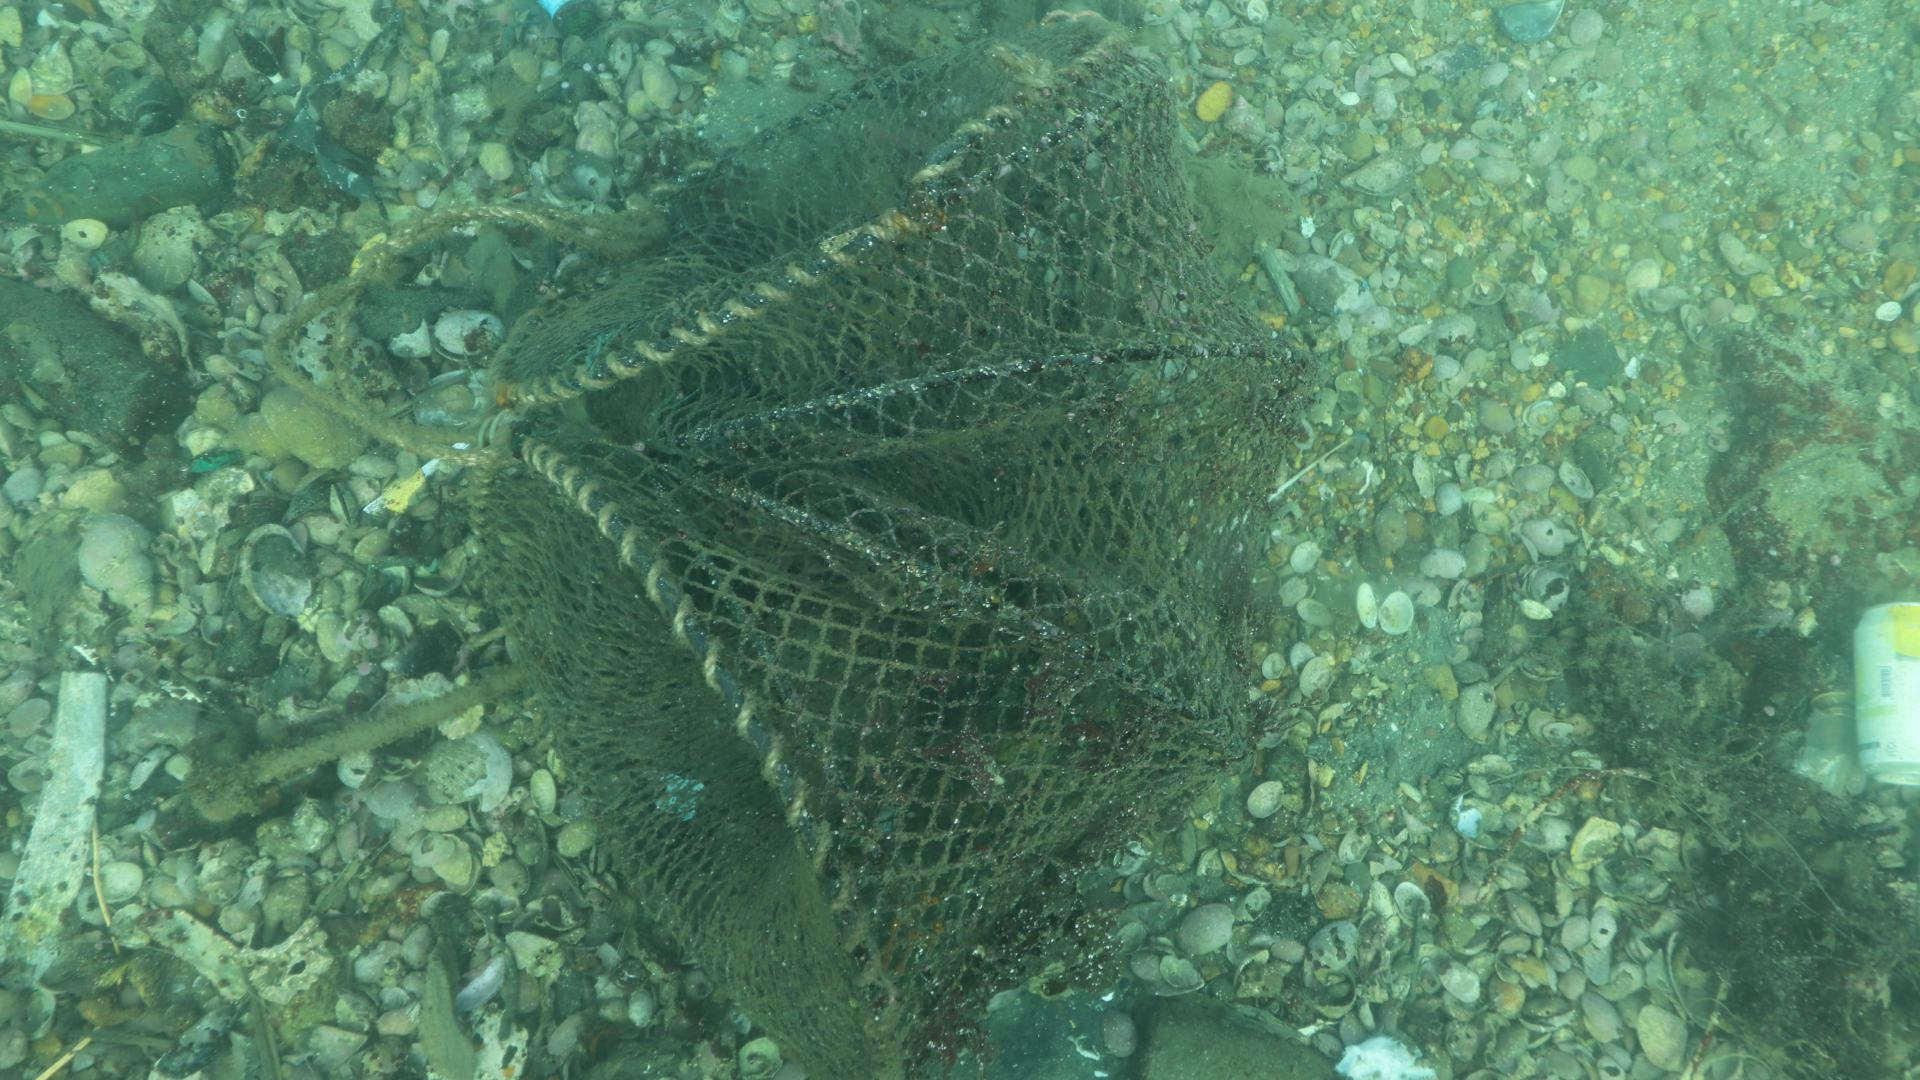bundle of ropes: (261, 187, 659, 468)
spring fish trap: (464, 16, 1325, 1080)
